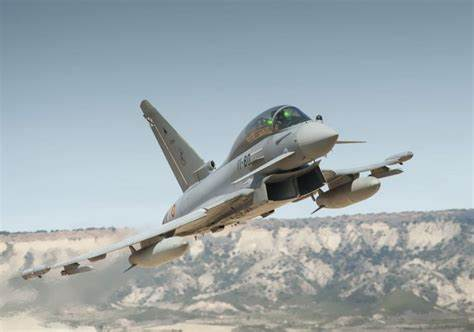Aeronef_militaire: (17, 91, 423, 280)
